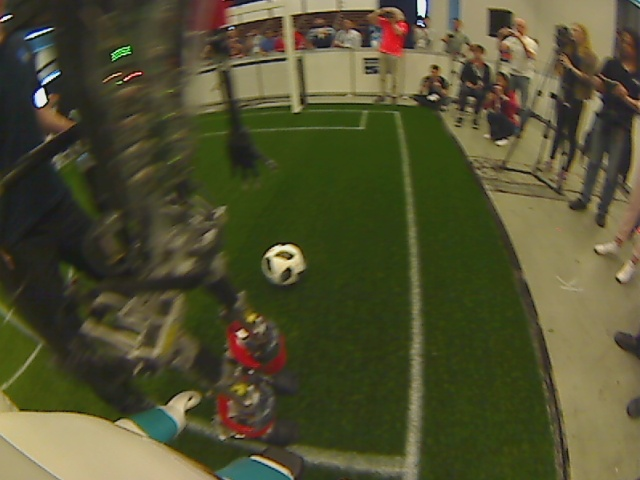ball: (257, 243, 308, 289)
goalpost: (185, 5, 306, 119)
robot: (1, 1, 300, 449)
